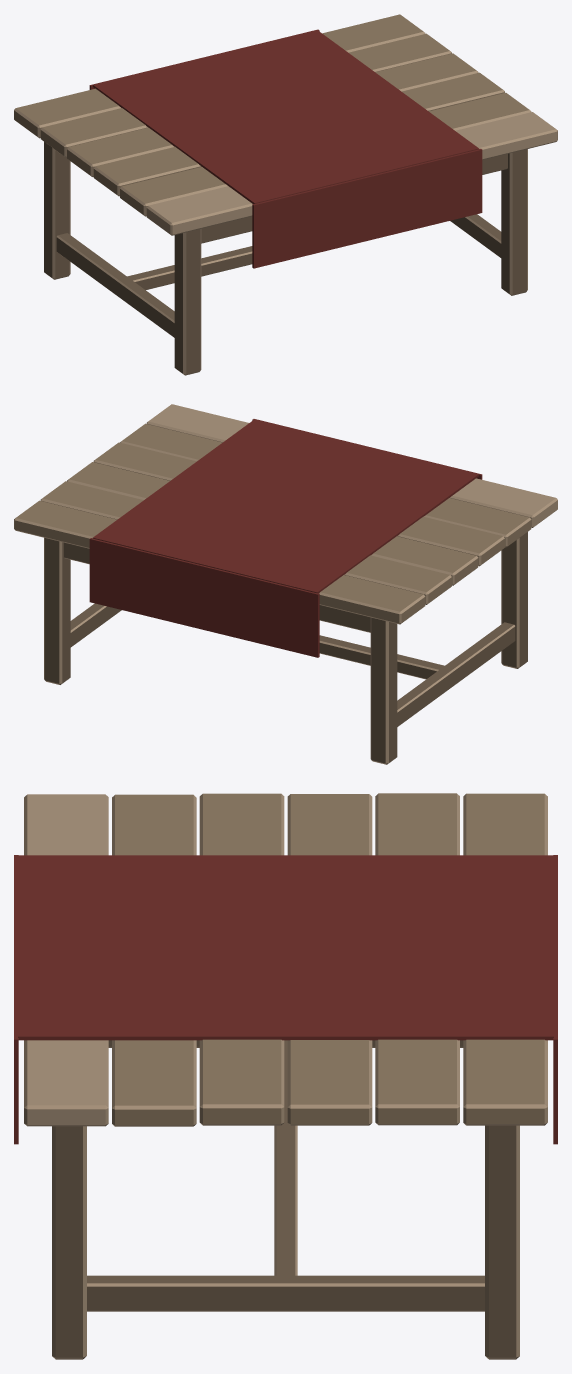
Rendered from table_3.glb.
3 views of the same model, one above another, from view 1: azimuth 30°, elevation 25°; view 2: azimuth 150°, elevation 25°; view 3: azimuth 270°, elevation 25° (orthographic). The views are drawn at different scales.
Parts seen in each view (by area): view 1: Table_3; view 2: Table_3; view 3: Table_3.
Part boxes in pixels (bbox=[...]): Table_3: bbox=[14, 14, 557, 375]; Table_3: bbox=[14, 404, 557, 764]; Table_3: bbox=[14, 793, 557, 1359].
Bounding box in the file's own units: 1.9 × 0.78 × 1.39.
